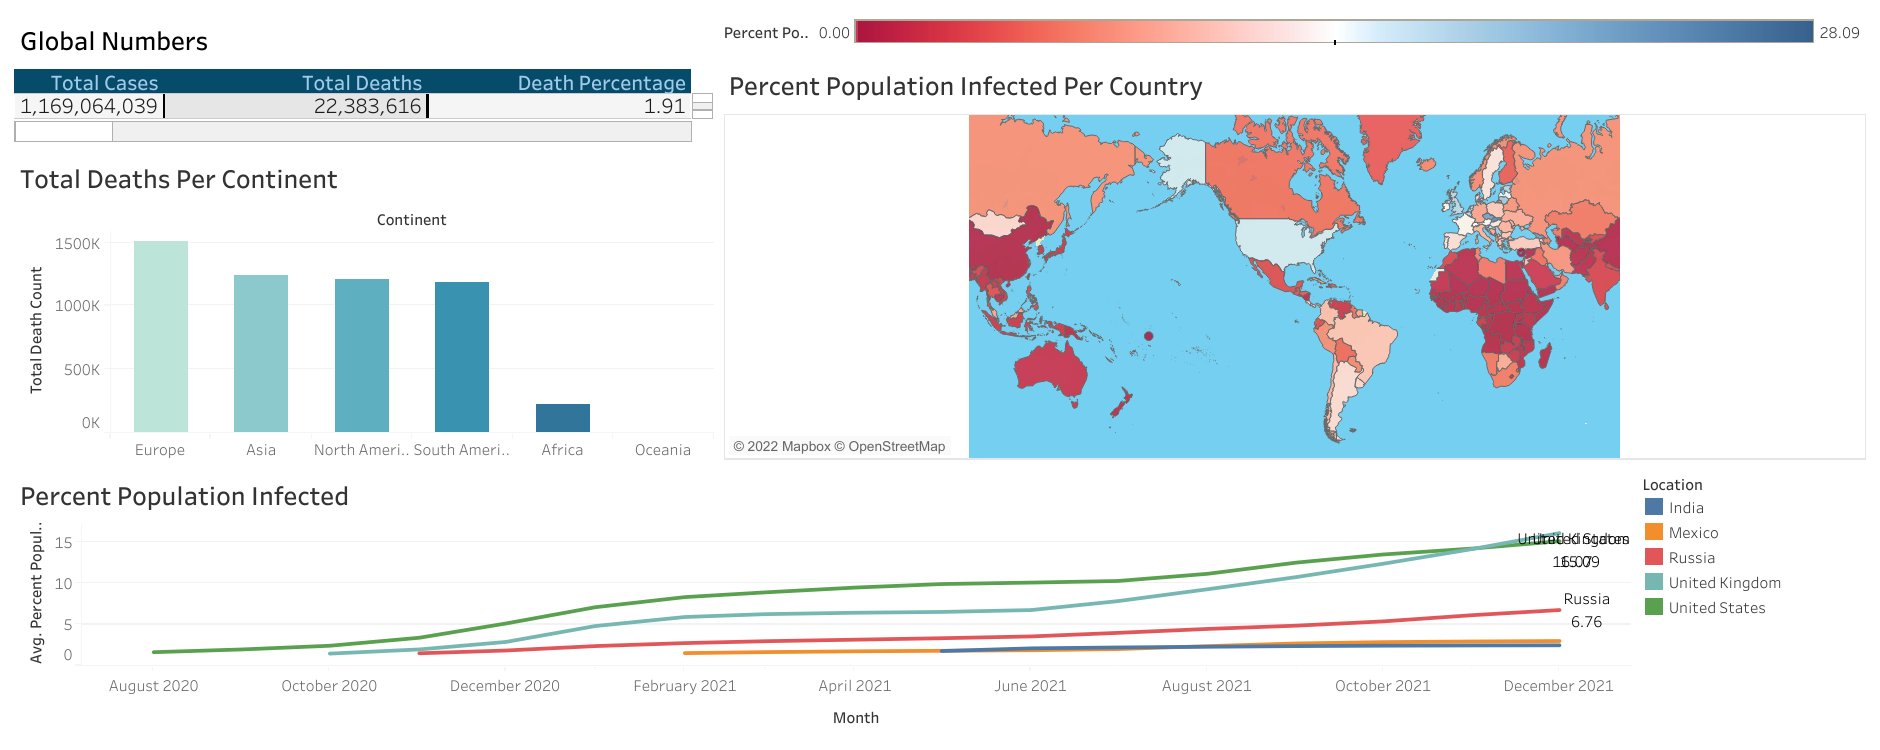

This screenshot's page, from the dashboard's own definition file:
{"tool":"tableau","page":{"name":"Dashboard 1","canvas":[1000,1000],"units":"permille","ordinal":0},"visuals":[{"type":"worksheet","title":"Sheet 1","mark":"Automatic","box":[4.7,9.4,377.3,184.5]},{"type":"legend","title":"Sheet 3","param":"[federated.0b6liq40utqef01fexg3k03plgbi].[sum:Percent_Population_infected:qk]","box":[382,9.4,613.4,59.9]},{"type":"worksheet","title":"Sheet 3","mark":"Automatic","box":[382,69.3,613.4,549.9]},{"type":"worksheet","title":"Sheet 2","mark":"Automatic","rows":["Total_Death_Count"],"cols":["location"],"box":[4.7,193.9,377.3,425.4]},{"type":"worksheet","title":"Sheet 4","mark":"Automatic","rows":["Percent_Population_infected"],"cols":["dateinfo"],"box":[4.7,619.3,865.4,371.3]},{"type":"legend","title":"Sheet 4","param":"[federated.0j941d4150gukf10k5fta0lshtun].[none:location:nk]","box":[870.1,619.3,125.2,371.3]}]}

Visuals, with their boxes on the dashboard's canvas, which has no fixed pixel size, in thousandths of its width and height (x1, y1, x2, y2). These are canvas units, not pixel positions in the 1880x750 screenshot, which may show the page scaled, cropped or inside an application window:
"Sheet 1" worksheet: {"left": 5, "top": 9, "right": 382, "bottom": 194}
"Sheet 3" legend: {"left": 382, "top": 9, "right": 995, "bottom": 69}
"Sheet 3" worksheet: {"left": 382, "top": 69, "right": 995, "bottom": 619}
"Sheet 2" worksheet: {"left": 5, "top": 194, "right": 382, "bottom": 619}
"Sheet 4" worksheet: {"left": 5, "top": 619, "right": 870, "bottom": 991}
"Sheet 4" legend: {"left": 870, "top": 619, "right": 995, "bottom": 991}
